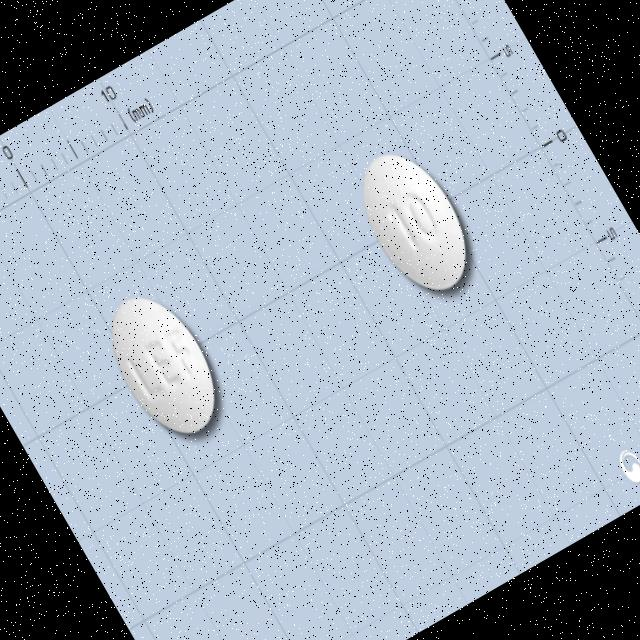R-A Tab: (340, 134, 490, 309), (90, 278, 238, 453)
